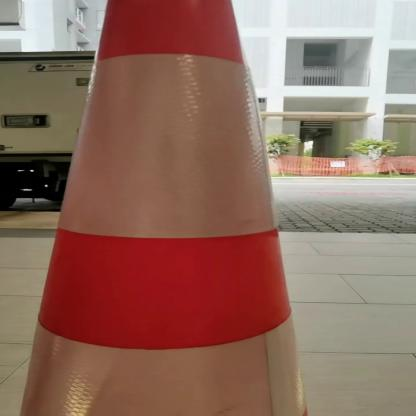cone: (10, 0, 313, 416)
